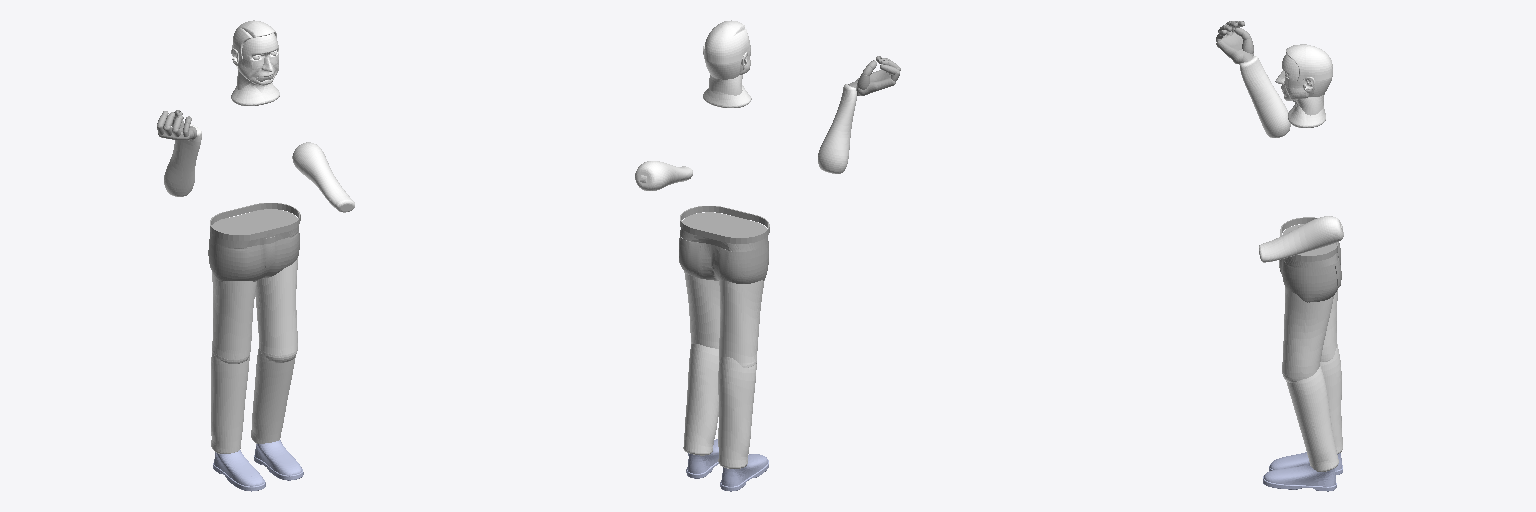
--- Facts derived from the render (not from the file) ---
3 views of the same robot in one strip: view 1: azimuth 30°, elevation 25°; view 2: azimuth 150°, elevation 25°; view 3: azimuth 270°, elevation 25° (orthographic).
Robot: umanoa — 45 links, 44 joints (32 revolute, 2 prismatic, 10 fixed); root link world; default pose: every joint at zero.
Links seen in each view (by area): view 1: bacino_link, testa_rz_Link, coscia_sx_rz_Link, coscia_dx_rz_Link, polpaccio_dx_rx_Link, polpaccio_sx_rx_Link, avambraccio_sx_rx_Link, avambraccio_dx_rx_Link, piede_dx_ry_Link, piede_sx_ry_Link, mano_dx_rz_Link; view 2: bacino_link, polpaccio_dx_rx_Link, testa_rz_Link, polpaccio_sx_rx_Link, coscia_dx_rz_Link, coscia_sx_rz_Link, avambraccio_dx_rx_Link, avambraccio_sx_rx_Link, mano_dx_rz_Link, piede_dx_ry_Link, piede_sx_ry_Link; view 3: testa_rz_Link, coscia_sx_rz_Link, polpaccio_sx_rx_Link, bacino_link, avambraccio_sx_rx_Link, avambraccio_dx_rx_Link, piede_sx_ry_Link, polpaccio_dx_rx_Link, mano_dx_rz_Link, coscia_dx_rz_Link, piede_dx_ry_Link.
Boxes of the visible links, bbox=[...] form: bacino_link: bbox=[208, 203, 300, 281]; testa_rz_Link: bbox=[231, 20, 279, 105]; coscia_sx_rz_Link: bbox=[255, 258, 297, 362]; coscia_dx_rz_Link: bbox=[212, 272, 256, 363]; polpaccio_dx_rx_Link: bbox=[211, 353, 249, 453]; polpaccio_sx_rx_Link: bbox=[251, 348, 295, 443]; avambraccio_sx_rx_Link: bbox=[292, 142, 354, 212]; avambraccio_dx_rx_Link: bbox=[164, 124, 201, 196]; piede_dx_ry_Link: bbox=[213, 450, 265, 491]; piede_sx_ry_Link: bbox=[254, 440, 303, 480]; mano_dx_rz_Link: bbox=[157, 110, 196, 140]; bacino_link: bbox=[679, 206, 769, 283]; polpaccio_dx_rx_Link: bbox=[718, 357, 756, 468]; testa_rz_Link: bbox=[703, 20, 751, 107]; polpaccio_sx_rx_Link: bbox=[683, 344, 718, 455]; coscia_dx_rz_Link: bbox=[719, 280, 764, 367]; coscia_sx_rz_Link: bbox=[684, 272, 719, 348]; avambraccio_dx_rx_Link: bbox=[818, 84, 856, 173]; avambraccio_sx_rx_Link: bbox=[635, 161, 692, 190]; mano_dx_rz_Link: bbox=[848, 56, 900, 95]; piede_dx_ry_Link: bbox=[720, 454, 768, 491]; piede_sx_ry_Link: bbox=[686, 439, 718, 478]; testa_rz_Link: bbox=[1275, 44, 1332, 127]; coscia_sx_rz_Link: bbox=[1282, 288, 1333, 382]; polpaccio_sx_rx_Link: bbox=[1286, 366, 1338, 471]; bacino_link: bbox=[1279, 217, 1341, 302]; avambraccio_sx_rx_Link: bbox=[1259, 216, 1343, 262]; avambraccio_dx_rx_Link: bbox=[1240, 56, 1290, 137]; piede_sx_ry_Link: bbox=[1263, 464, 1336, 491]; polpaccio_dx_rx_Link: bbox=[1320, 344, 1342, 453]; mano_dx_rz_Link: bbox=[1216, 21, 1253, 64]; coscia_dx_rz_Link: bbox=[1321, 290, 1337, 361]; piede_dx_ry_Link: bbox=[1269, 452, 1342, 474].
Bounding box of the posed robot: 0.9436 × 0.5073 × 1.9 m (x, y, z).
Meshes: 15 distinct files referenced, 11 mesh visuals loaded (11 binary STL); not drawn: 4 (reference not matched to a file when rendering).

The robot description file, URDF, robot "umanoa":
<?xml version="1.0" encoding="utf-8"?>
<!-- This URDF was automatically created by SolidWorks to URDF Exporter! Originally created by Stephen Brawner ([email redacted]) 
     Commit Version: 1.5.1-0-g916b5db  Build Version: 1.5.7152.31018
     For more information, please see http://wiki.ros.org/sw_urdf_exporter -->
<robot
  name="umanoa">
  
  
  <link name="world"/>
  
  <joint
    name="world_link_x"
    type="prismatic">
    <origin xyz="1 2 1" rpy="0 0 0" />

    <parent link="world" />
    <child link="bacino_link_x" />
    <axis xyz="1 0 0" />
        <limit
      lower="-4"
      upper="4"
      effort="0"
      velocity="0" />
  </joint>
  <link name="bacino_link_x"/>
   <joint
    name="world_link_y"
    type="prismatic">
    <origin xyz="0 0 0" rpy="0 0 0" />
    <parent link="bacino_link_x" />
    <child link="bacino_link" />
    <axis xyz="0 1 0" />
    <limit
      lower="-4"
      upper="4"
      effort="0"
      velocity="0" />
  </joint> 
  
  <link
    name="bacino_link">
    <inertial>
      <origin
        xyz="1.63084527327795E-05 0.00482972023678639 -0.0681817318631012"
        rpy="0 0 0" />
      <mass
        value="14.0934021081274" />
      <inertia
        ixx="0.0949181150286265"
        ixy="-1.03230480747761E-05"
        ixz="-1.25085778882932E-05"
        iyy="0.170706666777228"
        iyz="0.00132631356646179"
        izz="0.169800725598489" />
    </inertial>
    <visual>
      <origin
        xyz="0 0 0"
        rpy="0 0 0" />
      <geometry>
        <mesh
          filename="package://human_model/meshes/bacino_link.STL" />
      </geometry>
      <material
        name="">
        <color
          rgba="0.752941176470588 0.752941176470588 0.752941176470588 1" />
      </material>
    </visual>
    <collision>
      <origin
        xyz="0 0 0"
        rpy="0 0 0" />
      <geometry>
        <mesh
          filename="package://human_model/meshes/bacino_link.STL" />
      </geometry>
    </collision>
  </link>
  <link
    name="coscia_dx_Link"/>
  <joint
    name="anca_dx"
    type="fixed">
    <origin
      xyz="-0.0889 0 -0.1905"
      rpy="1.5708 0 0" />
    <parent
      link="bacino_link" />
    <child
      link="coscia_dx_Link" />
    <axis
      xyz="0 0 0" />
  </joint>
  <link
    name="coscia_dx_rx_Link"/>
  <joint
    name="anca_dx_rx"
    type="revolute">
    <origin
      xyz="0 0 0"
      rpy="0 0 0" />
    <parent
      link="coscia_dx_Link" />
    <child
      link="coscia_dx_rx_Link" />
    <axis
      xyz="-1 0 0" />
    <limit
      lower="-1.74"
      upper="0.52"
      effort="0"
      velocity="0" />
  </joint>
  <link
    name="coscia_dx_ry_Link"/>
  <joint
    name="anca_dx_ry"
    type="revolute">
    <origin
      xyz="0 0 0"
      rpy="0 0 0" />
    <parent
      link="coscia_dx_rx_Link" />
    <child
      link="coscia_dx_ry_Link" />
    <axis
      xyz="0 -1 0" />
    <limit
      lower="-1.57"
      upper="1.57"
      effort="0"
      velocity="0" />
  </joint>
  <link
    name="coscia_dx_rz_Link">
    <inertial>
      <origin
        xyz="0.00662753240336589 -0.044826678010188 -0.0201614038322519"
        rpy="0 0 0" />
      <mass
        value="11.8867774501735" />
      <inertia
        ixx="0.303595205835885"
        ixy="0.000594465401412999"
        ixz="2.99085342904802E-05"
        iyy="0.0443849999482012"
        iyz="-0.0201705033753511"
        izz="0.298071839790968" />
    </inertial>
    <visual>
      <origin
        xyz="0 0 0"
        rpy="0 0 0" />
      <geometry>
        <mesh
          filename="package://human_model/meshes/coscia_dx_rz_Link.STL" />
      </geometry>
      <material
        name="">
        <color
          rgba="1 1 1 1" />
      </material>
    </visual>
    <collision>
      <origin
        xyz="0 0 0"
        rpy="0 0 0" />
      <geometry>
        <mesh
          filename="package://human_model/meshes/coscia_dx_rz_Link.STL" />
      </geometry>
    </collision>
  </link>
  <joint
    name="anca_dx_rz"
    type="revolute">
    <origin
      xyz="0 0 0"
      rpy="0 0 0" />
    <parent
      link="coscia_dx_ry_Link" />
    <child
      link="coscia_dx_rz_Link" />
    <axis
      xyz="0 0 1" />
    <limit
      lower="-0.7"
      upper="0.35"
      effort="0"
      velocity="0" />
  </joint>
  <link
    name="polpaccio_dx_rx_Link">
    <inertial>
      <origin
        xyz="-0.000304420917175363 -0.109966681022119 -0.0130003073633206"
        rpy="0 0 0" />
      <mass
        value="6.86310239666224" />
      <inertia
        ixx="0.139910119437171"
        ixy="-5.11988110893528E-05"
        ixz="-1.18777943387184E-05"
        iyy="0.0161961116536394"
        iyz="-0.0102294578236297"
        izz="0.138969335978628" />
    </inertial>
    <visual>
      <origin
        xyz="0 0 0"
        rpy="0 0 0" />
      <geometry>
        <mesh
          filename="package://human_model/meshes/polpaccio_dx_rx_Link.STL" />
      </geometry>
      <material
        name="">
        <color
          rgba="1 1 1 1" />
      </material>
    </visual>
    <collision>
      <origin
        xyz="0 0 0"
        rpy="0 0 0" />
      <geometry>
        <mesh
          filename="package://human_model/meshes/polpaccio_dx_rx_Link.STL" />
      </geometry>
    </collision>
  </link>
  <joint
    name="ginocchio_dx_rx"
    type="revolute">
    <origin
      xyz="0.0065311 -0.35352 -0.044754"
      rpy="0 0 0" />
    <parent
      link="coscia_dx_rz_Link" />
    <child
      link="polpaccio_dx_rx_Link" />
    <axis
      xyz="-1 0 0" />
    <limit
      lower="0.66"
      upper="-1.57"
      effort="0"
      velocity="0" />
  </joint>
  <link
    name="piede_dx_rx_Link"/>
  <joint
    name="caviglia_dx_rx"
    type="revolute">
    <origin
      xyz="5.0188E-05 -0.37937 -0.035164"
      rpy="0 0 0" />
    <parent
      link="polpaccio_dx_rx_Link" />
    <child
      link="piede_dx_rx_Link" />
    <axis
      xyz="-1 0 0" />
    <limit
      lower="-0.35"
      upper="0.7"
      effort="0"
      velocity="0" />
  </joint>
  <link
    name="piede_dx_ry_Link">
    <inertial>
      <origin
        xyz="0.000721562613339999 -0.0172273022014146 0.0502157348703868"
        rpy="0 0 0" />
      <mass
        value="2.49810016737232" />
      <inertia
        ixx="0.0109341663859979"
        ixy="2.37647768707714E-05"
        ixz="-0.00021392179843149"
        iyy="0.0109487988082798"
        iyz="0.00112175865463177"
        izz="0.00283228719378269" />
    </inertial>
    <visual>
      <origin
        xyz="0 0 0"
        rpy="0 0 0" />
      <geometry>
        <mesh
          filename="package://human_model/meshes/piede_dx_ry_Link.STL" />
      </geometry>
      <material
        name="">
        <color
          rgba="0.792156862745098 0.819607843137255 0.933333333333333 1" />
      </material>
    </visual>
    <collision>
      <origin
        xyz="0 0 0"
        rpy="0 0 0" />
      <geometry>
        <mesh
          filename="package://human_model/meshes/piede_dx_ry_Link.STL" />
      </geometry>
    </collision>
  </link>
  <joint
    name="caviglia_dx_ry"
    type="revolute">
    <origin
      xyz="0 0 0"
      rpy="0 0 0" />
    <parent
      link="piede_dx_rx_Link" />
    <child
      link="piede_dx_ry_Link" />
    <axis
      xyz="0 -1 0" />
    <limit
      lower="-0.52"
      upper="0.52"
      effort="0"
      velocity="0" />
  </joint>
  <link
    name="piede_dx_Link"/>
  <joint
    name="caviglia_dx"
    type="fixed">
    <origin
      xyz="0 0 0"
      rpy="0 0 0" />
    <parent
      link="piede_dx_ry_Link" />
    <child
      link="piede_dx_Link" />
    <axis
      xyz="0 0 0" />
  </joint>
  <link
    name="coscia_sx_Link"/>
  <joint
    name="anca_sx"
    type="fixed">
    <origin
      xyz="0.0889 -0.0099886 -0.1901"
      rpy="1.5708 0 0" />
    <parent
      link="bacino_link" />
    <child
      link="coscia_sx_Link" />
    <axis
      xyz="0 0 0" />
  </joint>
  <link
    name="coscia_sx_rx_Link"/>
  <joint
    name="anca_sx_rx"
    type="revolute">
    <origin
      xyz="0 0 0"
      rpy="0 0 0" />
    <parent
      link="coscia_sx_Link" />
    <child
      link="coscia_sx_rx_Link" />
    <axis
      xyz="-1 0 0" />
    <limit
      lower="-1.74"
      upper="0.52"
      effort="0"
      velocity="0" />
  </joint>
  <link
    name="coscia_sx_ry_Link"/>
  <joint
    name="anca_sx_ry"
    type="revolute">
    <origin
      xyz="0 0 0"
      rpy="0 0 0" />
    <parent
      link="coscia_sx_rx_Link" />
    <child
      link="coscia_sx_ry_Link" />
    <axis
      xyz="0 1 0" />
    <limit
      lower="-1.57"
      upper="1.57"
      effort="0"
      velocity="0" />
  </joint>
  <link
    name="coscia_sx_rz_Link">
    <inertial>
      <origin
        xyz="-0.00607204020530218 -0.0461359748866554 -0.000225075287491326"
        rpy="0 0 0" />
      <mass
        value="11.886776881057" />
      <inertia
        ixx="0.303598011640181"
        ixy="0.000591472914415259"
        ixz="-7.32059163231502E-05"
        iyy="0.0450746920057602"
        iyz="0.024110139094956"
        izz="0.297384762883386" />
    </inertial>
    <visual>
      <origin
        xyz="0 0 0"
        rpy="0 0 0" />
      <geometry>
        <mesh
          filename="package://human_model/meshes/coscia_sx_rz_Link.STL" />
      </geometry>
      <material
        name="">
        <color
          rgba="1 1 1 1" />
      </material>
    </visual>
    <collision>
      <origin
        xyz="0 0 0"
        rpy="0 0 0" />
      <geometry>
        <mesh
          filename="package://human_model/meshes/coscia_sx_rz_Link.STL" />
      </geometry>
    </collision>
  </link>
  <joint
    name="anca_sx_rz"
    type="revolute">
    <origin
      xyz="0 0 0"
      rpy="0 0 0" />
    <parent
      link="coscia_sx_ry_Link" />
    <child
      link="coscia_sx_rz_Link" />
    <axis
      xyz="0 0 1" />
    <limit
      lower="-0.7"
      upper="0.35"
      effort="0"
      velocity="0" />
  </joint>
  <link
    name="polpaccio_sx_rx_Link">
    <inertial>
      <origin
        xyz="-0.000304376364054643 -0.105874814203783 -0.0466388955605134"
        rpy="0 0 0" />
      <mass
        value="6.86310250556743" />
      <inertia
        ixx="0.139910202667"
        ixy="-4.91566097376849E-05"
        ixz="-1.85162512352105E-05"
        iyy="0.0209985608427251"
        iyz="-0.0259074740816005"
        izz="0.13416676775691" />
    </inertial>
    <visual>
      <origin
        xyz="0 0 0"
        rpy="0 0 0" />
      <geometry>
        <mesh
          filename="package://human_model/meshes/polpaccio_sx_rx_Link.STL" />
      </geometry>
      <material
        name="">
        <color
          rgba="1 1 1 1" />
      </material>
    </visual>
    <collision>
      <origin
        xyz="0 0 0"
        rpy="0 0 0" />
      <geometry>
        <mesh
          filename="package://human_model/meshes/polpaccio_sx_rx_Link.STL" />
      </geometry>
    </collision>
  </link>
  <joint
    name="ginocchio_sx_rx"
    type="revolute">
    <origin
      xyz="-0.0061689 -0.35444 0.028771"
      rpy="0 0 0" />
    <parent
      link="coscia_sx_rz_Link" />
    <child
      link="polpaccio_sx_rx_Link" />
    <axis
      xyz="1 0 0" />
    <limit
      lower="0.66"
      upper="-1.57"
      effort="0"
      velocity="0" />
  </joint>
  <link
    name="piede_sx_rx_Link"/>
  <joint
    name="cavilgia_sx_rx"
    type="revolute">
    <origin
      xyz="5.0188E-05 -0.37001 -0.1041"
      rpy="0 0 0" />
    <parent
      link="polpaccio_sx_rx_Link" />
    <child
      link="piede_sx_rx_Link" />
    <axis
      xyz="-1 0 0" />
    <limit
      lower="-0.35"
      upper="0.7"
      effort="0"
      velocity="0" />
  </joint>
  <link
    name="piede_sx_ry_Link">
    <inertial>
      <origin
        xyz="-0.00114662703793376 -0.0151448914064408 0.0583777382316568"
        rpy="0 0 0" />
      <mass
        value="2.49652450251182" />
      <inertia
        ixx="0.0109291066101329"
        ixy="-8.51264846863559E-06"
        ixz="0.000197722472104845"
        iyy="0.0110450676639959"
        iyz="0.000630741708385516"
        izz="0.0027229068714671" />
    </inertial>
    <visual>
      <origin
        xyz="0 0 0"
        rpy="0 0 0" />
      <geometry>
        <mesh
          filename="package://human_model/meshes/piede_sx_ry_Link.STL" />
      </geometry>
      <material
        name="">
        <color
          rgba="0.792156862745098 0.819607843137255 0.933333333333333 1" />
      </material>
    </visual>
    <collision>
      <origin
        xyz="0 0 0"
        rpy="0 0 0" />
      <geometry>
        <mesh
          filename="package://human_model/meshes/piede_sx_ry_Link.STL" />
      </geometry>
    </collision>
  </link>
  <joint
    name="caviglia_sx_ry"
    type="revolute">
    <origin
      xyz="0 0 0"
      rpy="0 0 0" />
    <parent
      link="piede_sx_rx_Link" />
    <child
      link="piede_sx_ry_Link" />
    <axis
      xyz="0 -1 0" />
    <limit
      lower="-0.52"
      upper="0.52"
      effort="0"
      velocity="0" />
  </joint>
  <link
    name="piede_sx_Link"/>
  <joint
    name="caviglia_sx"
    type="fixed">
    <origin
      xyz="0 0 0"
      rpy="0 0 0" />
    <parent
      link="piede_sx_ry_Link" />
    <child
      link="piede_sx_Link" />
    <axis
      xyz="0 0 0" />
  </joint>
  <link
    name="busto_Link"/>
  <joint
    name="busto"
    type="fixed">
    <origin
      xyz="0 0 0.0127"
      rpy="1.5708 0 0" />
    <parent
      link="bacino_link" />
    <child
      link="busto_Link" />
    <axis
      xyz="0 0 0" />
  </joint>
  <link
    name="busto_rx_Link"/>
  <joint
    name="colon_rx"
    type="revolute">
    <origin
      xyz="0 0 0"
      rpy="0 0 0" />
    <parent
      link="busto_Link" />
    <child
      link="busto_rx_Link" />
    <axis
      xyz="-1 0 0" />
    <limit
      lower="-1.57"
      upper="0.44"
      effort="0"
      velocity="0" />
  </joint>
  <link
    name="busto_ry_Link"/>
  <joint
    name="colon_ry"
    type="revolute">
    <origin
      xyz="0 0 0"
      rpy="0 0 0" />
    <parent
      link="busto_rx_Link" />
    <child
      link="busto_ry_Link" />
    <axis
      xyz="0 1 0" />
    <limit
      lower="-0.78"
      upper="0.78"
      effort="0"
      velocity="0" />
  </joint>
  <link
    name="busto_rz_Link">
    <inertial>
      <origin
        xyz="-7.08042820760759E-06 0.319417381127728 0.00430747877918096"
        rpy="0 0 0" />
      <mass
        value="42.2207301568567" />
      <inertia
        ixx="1.30999404753053"
        ixy="-9.29927456062665E-06"
        ixz="-1.1505750971957E-05"
        iyy="0.609099091757231"
        iyz="-0.00512165621586603"
        izz="1.66563031781146" />
    </inertial>
    <visual>
      <origin
        xyz="0 0 0"
        rpy="0 0 0" />
      <geometry>
        <mesh
          filename="package://human_model/meshes/busto_rz_Link.STL" />
      </geometry>
      <material
        name="">
        <color
          rgba="1 1 1 1" />
      </material>
    </visual>
    <collision>
      <origin
        xyz="0 0 0"
        rpy="0 0 0" />
      <geometry>
        <mesh
          filename="package://human_model/meshes/busto_rz_Link.STL" />
      </geometry>
    </collision>
  </link>
  <joint
    name="colon_rz"
    type="revolute">
    <origin
      xyz="0 0 0"
      rpy="0 0 0" />
    <parent
      link="busto_ry_Link" />
    <child
      link="busto_rz_Link" />
    <axis
      xyz="0 0 1" />
    <limit
      lower="-0.43"
      upper="0.43"
      effort="0"
      velocity="0" />
  </joint>
  <link
    name="testa_rx_Link"/>
  <joint
    name="collo_rx"
    type="revolute">
    <origin
      xyz="0 0.635 0"
      rpy="0 0 0" />
    <parent
      link="busto_rz_Link" />
    <child
      link="testa_rx_Link" />
    <axis
      xyz="1 0 0" />
    <limit
      lower="-1.05"
      upper="0.57"
      effort="0"
      velocity="0" />
  </joint>
  <link
    name="testa_ry_Link"/>
  <joint
    name="collo_ry"
    type="revolute">
    <origin
      xyz="0 0 0"
      rpy="0 0 0" />
    <parent
      link="testa_rx_Link" />
    <child
      link="testa_ry_Link" />
    <axis
      xyz="0 -1 0" />
    <limit
      lower="-1.4"
      upper="1.4"
      effort="0"
      velocity="0" />
  </joint>
  <link
    name="testa_rz_Link">
    <inertial>
      <origin
        xyz="-0.0042994764407131 0.084903449003125 0.00528561556827116"
        rpy="0 0 0" />
      <mass
        value="9.51616308063526" />
      <inertia
        ixx="0.0624442133084464"
        ixy="-1.16854366186225E-05"
        ixz="-1.14673484552627E-05"
        iyy="0.0284241810054554"
        iyz="-0.00300483893482992"
        izz="0.059784165007599" />
    </inertial>
    <visual>
      <origin
        xyz="0 0 0"
        rpy="0 0 0" />
      <geometry>
        <mesh
          filename="package://human_model/meshes/testa_rz_Link.STL" />
      </geometry>
      <material
        name="">
        <color
          rgba="1 1 1 1" />
      </material>
    </visual>
    <collision>
      <origin
        xyz="0 0 0"
        rpy="0 0 0" />
      <geometry>
        <mesh
          filename="package://human_model/meshes/testa_rz_Link.STL" />
      </geometry>
    </collision>
  </link>
  <joint
    name="collo_rz"
    type="revolute">
    <origin
      xyz="0 0 0"
      rpy="0 0 0" />
    <parent
      link="testa_ry_Link" />
    <child
      link="testa_rz_Link" />
    <axis
      xyz="0 0 -1" />
    <limit
      lower="-0.78"
      upper="0.78"
      effort="0"
      velocity="0" />
  </joint>
  <link
    name="testa_Link"/>
  <joint
    name="collo"
    type="fixed">
    <origin
      xyz="0 0 0"
      rpy="0 0 0" />
    <parent
      link="testa_rz_Link" />
    <child
      link="testa_Link" />
    <axis
      xyz="0 0 0" />
  </joint>
  <link
    name="bicipite_dx_Link"/>
  <joint
    name="spalla_dx"
    type="fixed">
    <origin
      xyz="-0.15132 0.47482 0.00064832"
      rpy="0 0 0" />
    <parent
      link="busto_rz_Link" />
    <child
      link="bicipite_dx_Link" />
    <axis
      xyz="0 0 0" />
  </joint>
  <link
    name="bicipite_dx_rx_Link"/>
  <joint
    name="spalla_dx_rx"
    type="revolute">
    <origin
      xyz="0 0 0"
      rpy="0 0 0" />
    <parent
      link="bicipite_dx_Link" />
    <child
      link="bicipite_dx_rx_Link" />
    <axis
      xyz="-1 0 0" />
    <limit
      lower="-1.05"
      upper="1.57"
      effort="0"
      velocity="0" />
  </joint>
  <link
    name="bicipite_dx_ry_Link"/>
  <joint
    name="spalla_dx_ry"
    type="revolute">
    <origin
      xyz="0 0 0"
      rpy="0 0 0" />
    <parent
      link="bicipite_dx_rx_Link" />
    <child
      link="bicipite_dx_ry_Link" />
    <axis
      xyz="0 1 0" />
    <limit
      lower="-1.57"
      upper="1.4"
      effort="0"
      velocity="0" />
  </joint>
  <link
    name="bicipite_dx_rz_Link">
    <inertial>
      <origin
        xyz="-0.134925496806097 -0.0340848452073823 0.00910309159813259"
        rpy="0 0 0" />
      <mass
        value="4.37432831162481" />
      <inertia
        ixx="0.0323903616181337"
        ixy="-0.0116044812374463"
        ixz="0.0138304659353632"
        iyy="0.0370064257784088"
        iyz="0.0114099590316461"
        izz="0.0344002508376811" />
    </inertial>
    <visual>
      <origin
        xyz="0 0 0"
        rpy="0 0 0" />
      <geometry>
        <mesh
          filename="package://human_model/meshes/bicipite_dx_rz_Link.STL" />
      </geometry>
      <material
        name="">
        <color
          rgba="0.752941176470588 0.752941176470588 0.752941176470588 1" />
      </material>
    </visual>
    <collision>
      <origin
        xyz="0 0 0"
        rpy="0 0 0" />
      <geometry>
        <mesh
          filename="package://human_model/meshes/bicipite_dx_rz_Link.STL" />
      </geometry>
    </collision>
  </link>
  <joint
    name="spalla_dx_rz"
    type="revolute">
    <origin
      xyz="0 0 0"
      rpy="0 0 0" />
    <parent
      link="bicipite_dx_ry_Link" />
    <child
      link="bicipite_dx_rz_Link" />
    <axis
      xyz="0 0 -1" />
    <limit
      lower="-0.87"
      upper="2.62"
      effort="0"
      velocity="0" />
  </joint>
  <link
    name="avambraccio_dx_rx_Link">
    <inertial>
      <origin
        xyz="0.00640171203686074 0.115378456843917 0.0174186456140455"
        rpy="0 0 0" />
      <mass
        value="2.47455958799397" />
      <inertia
        ixx="0.0220323949428965"
        ixy="0.00109799054244726"
        ixz="0.000332235534721599"
        iyy="0.00617156761844111"
        iyz="-0.00693311292457083"
        izz="0.0188046728069392" />
    </inertial>
    <visual>
      <origin
        xyz="0 0 0"
        rpy="0 0 0" />
      <geometry>
        <mesh
          filename="package://human_model/meshes/avambraccio_dx_rx_Link.STL" />
      </geometry>
      <material
        name="">
        <color
          rgba="1 1 1 1" />
      </material>
    </visual>
    <collision>
      <origin
        xyz="0 0 0"
        rpy="0 0 0" />
      <geometry>
        <mesh
          filename="package://human_model/meshes/avambraccio_dx_rx_Link.STL" />
      </geometry>
    </collision>
  </link>
  <joint
    name="gomito_dx_rx"
    type="revolute">
    <origin
      xyz="-0.26746 -0.15599 0.14561"
      rpy="0 0 0" />
    <parent
      link="bicipite_dx_rz_Link" />
    <child
      link="avambraccio_dx_rx_Link" />
    <axis
      xyz="-1 0 0" />
    <limit
      lower="-1.05"
      upper="1.57"
      effort="0"
      velocity="0" />
  </joint>
  <link
    name="mano_dx_rx_Link"/>
  <joint
    name="polso_dx_rx"
    type="revolute">
    <origin
      xyz="0.00095467 0.28215 0.085973"
      rpy="0 0 0" />
    <parent
      link="avambraccio_dx_rx_Link" />
    <child
      link="mano_dx_rx_Link" />
    <axis
      xyz="-1 0 0" />
    <limit
      lower="-1.05"
      upper="1.04"
      effort="0"
      velocity="0" />
  </joint>
  <link
    name="mano_dx_ry_Link"/>
  <joint
    name="polso_dx_ry"
    type="revolute">
    <origin
      xyz="0 0 0"
      rpy="0 0 0" />
    <parent
      link="mano_dx_rx_Link" />
    <child
      link="mano_dx_ry_Link" />
    <axis
      xyz="0 1 0" />
    <limit
      lower="-1.05"
      upper="1.05"
      effort="0"
      velocity="0" />
  </joint>
  <link
    name="mano_dx_rz_Link">
    <inertial>
      <origin
        xyz="-0.0862287148213654 0.0519480038617923 0.0548049144750927"
        rpy="0 0 0" />
      <mass
        value="1.09693295932978" />
      <inertia
        ixx="0.00108659967519784"
        ixy="0.000358634269185419"
        ixz="0.000396636173161562"
        iyy="0.00194646759127748"
        iyz="-0.000243365223583501"
        izz="0.00149061906997174" />
    </inertial>
    <visual>
      <origin
        xyz="0 0 0"
        rpy="0 0 0" />
      <geometry>
        <mesh
          filename="package://human_model/meshes/mano_dx_rz_Link.STL" />
      </geometry>
      <material
        name="">
        <color
          rgba="0.752941176470588 0.752941176470588 0.752941176470588 1" />
      </material>
    </visual>
    <collision>
      <origin
        xyz="0 0 0"
        rpy="0 0 0" />
      <geometry>
        <mesh
          filename="package://human_model/meshes/mano_dx_rz_Link.STL" />
      </geometry>
    </collision>
  </link>
  <joint
    name="polso_dx_rz"
    type="revolute">
    <origin
      xyz="0 0 0"
      rpy="0 0 0" />
    <parent
      link="mano_dx_ry_Link" />
    <child
      link="mano_dx_rz_Link" />
    <axis
      xyz="0 0.0042356 0.99999" />
    <limit
      lower="-1.4"
      upper="1.4"
      effort="0"
      velocity="0" />
  </joint>
  <link
    name="mano_dx_Link"/>
  <joint
    name="polso-dx"
    type="fixed">
    <origin
      xyz="0 0 0"
      rpy="0 0 0" />
    <parent
      link="mano_dx_rz_Link" />
    <child
      link="mano_dx_Link" />
    <axis
      xyz="0 0 0" />
  </joint>
  <link
    name="bicipite_sx_Link"/>
  <joint
    name="spalla_sx"
    type="fixed">
    <origin
      xyz="0.15113 0.47498 0"
      rpy="0 0 0" />
    <parent
      link="busto_rz_Link" />
    <child
      link="bicipite_sx_Link" />
    <axis
      xyz="0 0 0" />
  </joint>
  <link
    name="bicipite_sx_rx_Link"/>
  <joint
    name="spalla_sx_rx"
    type="revolute">
    <origin
      xyz="0 0 0"
      rpy="0 0 0" />
    <parent
      link="bicipite_sx_Link" />
    <child
      link="bicipite_sx_rx_Link" />
    <axis
      xyz="-1 0 0" />
    <limit
      lower="-1.05"
      upper="2.44"
      effort="0"
      velocity="0" />
  </joint>
  <link
    name="bicipite_sx_ry_Link"/>
  <joint
    name="spalla_sx_ry"
    type="revolute">
    <origin
      xyz="0 0 0"
      rpy="0 0 0" />
    <parent
      link="bicipite_sx_rx_Link" />
    <child
      link="bicipite_sx_ry_Link" />
    <axis
      xyz="0 1 0" />
    <limit
      lower="-1.57"
      upper="1.4"
      effort="0"
      velocity="0" />
  </joint>
  <link
    name="bicipite_sx_rz_Link">
    <inertial>
      <origin
        xyz="0.108582025328863 -0.100757209649031 -0.040279031544695"
        rpy="0 0 0" />
      <mass
        value="4.94739357728019" />
      <inertia
        ixx="0.0484633832241138"
        ixy="0.0058625732645538"
        ixz="0.00278211363604115"
        iyy="0.016555517012349"
        iyz="-0.0124179445995877"
        izz="0.0445637006865341" />
    </inertial>
    <visual>
      <origin
        xyz="0 0 0"
        rpy="0 0 0" />
      <geometry>
        <mesh
          filename="package://human_model/meshes/bicipite_sx_rz_Link.STL" />
      </geometry>
      <material
        name="">
        <color
          rgba="0.752941176470588 0.752941176470588 0.752941176470588 1" />
      </material>
    </visual>
    <collision>
      <origin
        xyz="0 0 0"
        rpy="0 0 0" />
      <geometry>
        <mesh
          filename="package://human_model/meshes/bicipite_sx_rz_Link.STL" />
      </geometry>
    </collision>
  </link>
  <joint
    name="spalla_sx_rz"
    type="revolute">
    <origin
      xyz="0 0 0"
      rpy="0 0 0" />
    <parent
      link="bicipite_sx_ry_Link" />
    <child
      link="bicipite_sx_rz_Link" />
    <axis
      xyz="0 0 1" />
    <limit
      lower="-0.87"
      upper="2.62"
      effort="0"
      velocity="0" />
  </joint>
  <link
    name="avambraccio_sx_rx_Link">
    <inertial>
      <origin
        xyz="-0.000456727189665218 -0.00413403239961016 0.112610797703676"
        rpy="0 0 0" />
      <mass
        value="2.47454926258547" />
      <inertia
        ixx="0.0218870994895058"
        ixy="0.000411085040104089"
        ixz="-0.000604412687192958"
        iyy="0.0196307526217198"
        iyz="0.00633516549054064"
        izz="0.00549072087738548" />
    </inertial>
    <visual>
      <origin
        xyz="0 0 0"
        rpy="0 0 0" />
      <geometry>
        <mesh
          filename="package://human_model/meshes/avambraccio_sx_rx_Link.STL" />
      </geometry>
      <material
        name="">
        <color
          rgba="1 1 1 1" />
      </material>
    </visual>
    <collision>
      <origin
        xyz="0 0 0"
        rpy="0 0 0" />
      <geometry>
        <mesh
          filename="package://human_model/meshes/avambraccio_sx_rx_Link.STL" />
      </geometry>
    </collision>
  </link>
  <joint
    name="gomito_sx_rx"
    type="revolute">
    <origin
      xyz="0.13309 -0.29866 -0.10954"
      rpy="0 0 0" />
    <parent
      link="bicipite_sx_rz_Link" />
    <child
      link="avambraccio_sx_rx_Link" />
    <axis
      xyz="1 0 0" />
    <limit
      lower="-1.57"
      upper="1.05"
      effort="0"
      velocity="0" />
  </joint>
  <link
    name="mano_sx_rx_Link"/>
  <joint
    name="polso_sx_rx"
    type="revolute">
    <origin
      xyz="0.0054506 -0.067753 0.27698"
      rpy="0 0 0" />
    <parent
      link="avambraccio_sx_rx_Link" />
    <child
      link="mano_sx_rx_Link" />
    <axis
      xyz="1 0 0" />
    <limit
      lower="-1.05"
      upper="1.05"
      effort="0"
      velocity="0" />
  </joint>
  <link
    name="mano_sx_ry_Link"/>
  <joint
    name="polso_sx_ry"
    type="revolute">
    <origin
      xyz="0 0 0"
      rpy="0 0 0" />
    <parent
      link="mano_sx_rx_Link" />
    <child
      link="mano_sx_ry_Link" />
    <axis
      xyz="0 -1 0" />
    <limit
      lower="-0.52"
      upper="0.35"
      effort="0"
      velocity="0" />
  </joint>
  <link
    name="mano_sx_rz_Link">
    <inertial>
      <origin
        xyz="-0.00564009436764457 -0.0162383580516536 0.110322190347408"
        rpy="0 0 0" />
      <mass
        value="1.09976469119972" />
      <inertia
        ixx="0.00175137952749591"
        ixy="-4.73615273596413E-06"
        ixz="2.58128012984874E-05"
        iyy="0.00199074137888703"
        iyz="0.000398494695785101"
        izz="0.000826647756442142" />
    </inertial>
    <visual>
      <origin
        xyz="0 0 0"
        rpy="0 0 0" />
      <geometry>
        <mesh
          filename="package://human_model/meshes/mano_sx_rz_Link.STL" />
      </geometry>
      <material
        name="">
        <color
          rgba="0.752941176470588 0.752941176470588 0.752941176470588 1" />
      </material>
    </visual>
    <collision>
      <origin
        xyz="0 0 0"
        rpy="0 0 0" />
      <geometry>
        <mesh
          filename="package://human_model/meshes/mano_sx_rz_Link.STL" />
      </geometry>
    </collision>
  </link>
  <joint
    name="polso_sx_rz"
    type="revolute">
    <origin
      xyz="0 0 0"
      rpy="0 0 0" />
    <parent
      link="mano_sx_ry_Link" />
    <child
      link="mano_sx_rz_Link" />
    <axis
      xyz="0 0 1" />
    <limit
      lower="-1.4"
      upper="1.4"
      effort="0"
      velocity="0" />
  </joint>
  <link
    name="mano_sx_Link"/>
  <joint
    name="polso_sx"
    type="fixed">
    <origin
      xyz="0 0 0"
      rpy="0 0 0" />
    <parent
      link="mano_sx_rz_Link" />
    <child
      link="mano_sx_Link" />
    <axis
      xyz="0 0 0" />
  </joint>
</robot>
